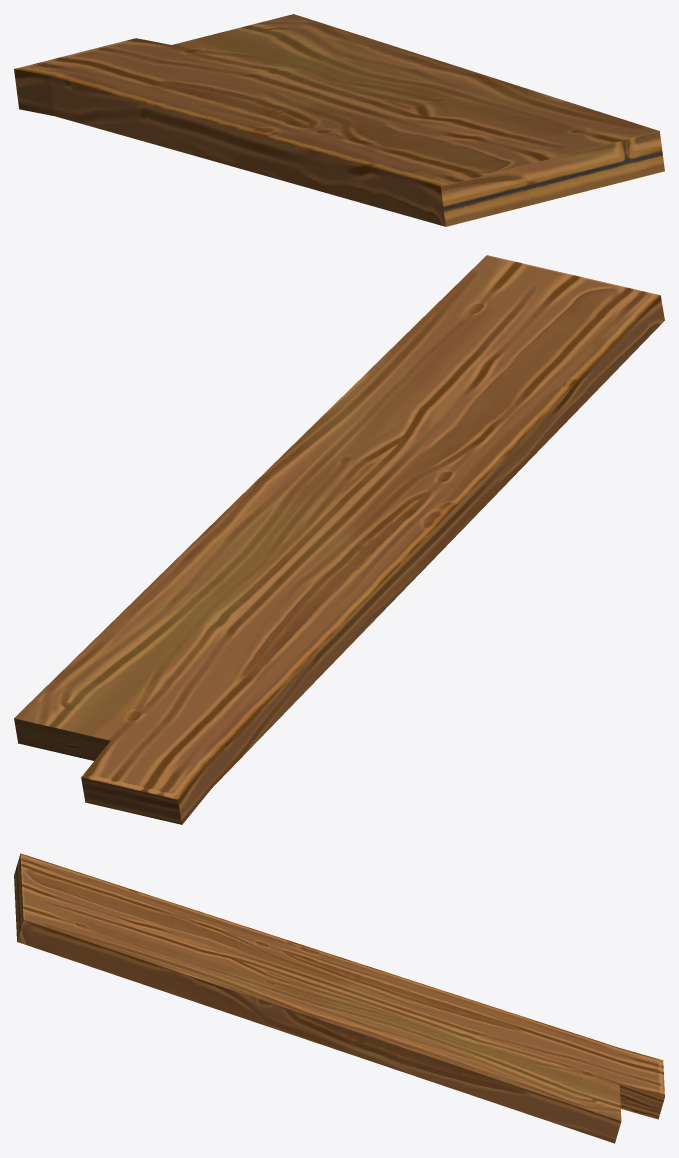
3 renders of one model, top to bottom at view 1: azimuth 30°, elevation 25°; view 2: azimuth 150°, elevation 25°; view 3: azimuth 270°, elevation 25°, orthographic. The views are drawn at different scales.
Parts seen in each view (by area): view 1: Cube.551; view 2: Cube.551; view 3: Cube.551.
Part boxes in pixels (box(x1,y1,x2,y2)): Cube.551: box(14, 14, 664, 226); Cube.551: box(14, 255, 664, 824); Cube.551: box(14, 853, 664, 1143).
Size of the model in its own units: 81.22 by 73.82 by 218.
Materials: 1 (1 with a texture image).
